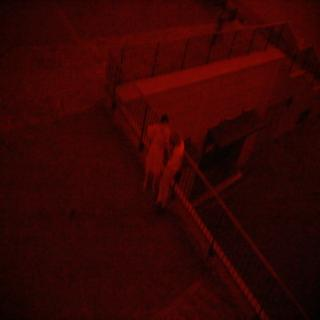person: (139, 111, 169, 201), (164, 130, 193, 219)
